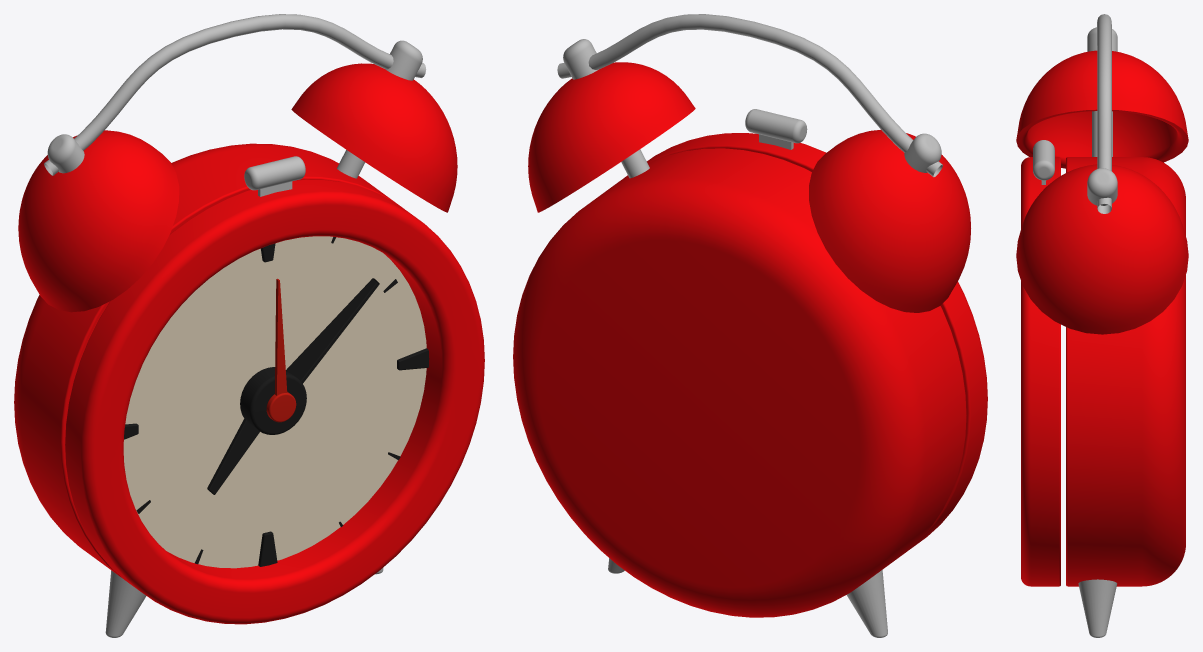
File: uploads_files_5697728_Clock.fbx
3 views of the same model, side by side, from view 1: azimuth 30°, elevation 25°; view 2: azimuth 150°, elevation 25°; view 3: azimuth 270°, elevation 25° (orthographic). The views are drawn at different scales.
Parts seen in each view (by area): view 1: Cylinder, Cylinder.008, Sphere.001, Sphere, BézierCurve, Cylinder.003, Cube.001, Cylinder.004, Cylinder.007, Cylinder.002, Cylinder.005, Cube.002 (+2 smaller); view 2: Cylinder, Sphere.001, Sphere, BézierCurve, Cylinder.007, Cylinder.002, Cylinder.005, Cylinder.006; view 3: Cylinder, Sphere, Sphere.001, BézierCurve, Cylinder.001, Cylinder.005, Cylinder.007, Cylinder.006.
Part boxes in pixels (box(x1,y1,x2,y2)): Cylinder: box(14, 143, 484, 624); Cylinder.008: box(123, 236, 426, 568); Sphere.001: box(18, 130, 179, 312); Sphere: box(291, 63, 457, 212); BézierCurve: box(44, 14, 426, 175); Cylinder.003: box(240, 367, 306, 434); Cube.001: box(286, 278, 379, 383); Cylinder.004: box(266, 278, 296, 422); Cylinder.007: box(244, 156, 305, 196); Cylinder.002: box(105, 570, 146, 637); Cylinder.005: box(337, 40, 422, 178); Cube.002: box(124, 243, 429, 566); Cylinder: box(513, 133, 987, 617); Sphere.001: box(809, 129, 970, 312); Sphere: box(528, 62, 695, 212); BézierCurve: box(557, 14, 942, 177); Cylinder.007: box(745, 109, 807, 149); Cylinder.002: box(847, 570, 887, 637); Cylinder.005: box(563, 39, 649, 178); Cylinder.006: box(904, 133, 941, 172); Cylinder: box(1021, 157, 1185, 586); Sphere: box(1016, 164, 1188, 334); Sphere.001: box(1016, 50, 1188, 168); BézierCurve: box(1097, 14, 1111, 213); Cylinder.001: box(1078, 579, 1117, 637); Cylinder.005: box(1087, 168, 1117, 205); Cylinder.007: box(1033, 140, 1054, 184); Cylinder.006: box(1087, 27, 1117, 156).
Size of the model in its own units: 158 by 212 by 61.86.
